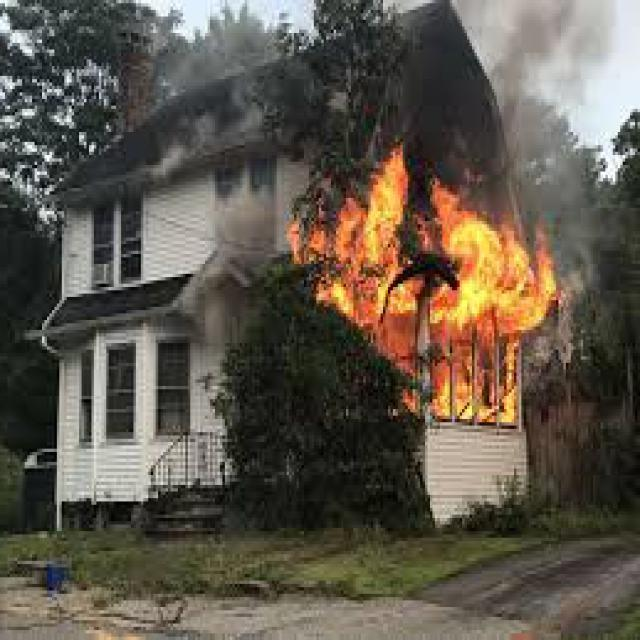Fire: (276, 145, 564, 428)
Smoke: (175, 25, 277, 327), (468, 10, 595, 132)
